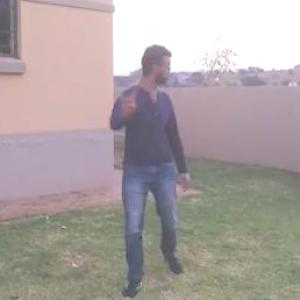takeoff-hand: (112, 78, 142, 120)
